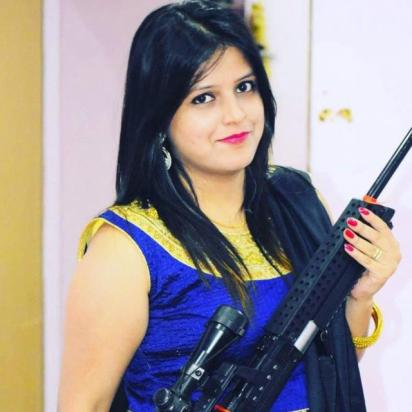Gun: (149, 126, 412, 412)
